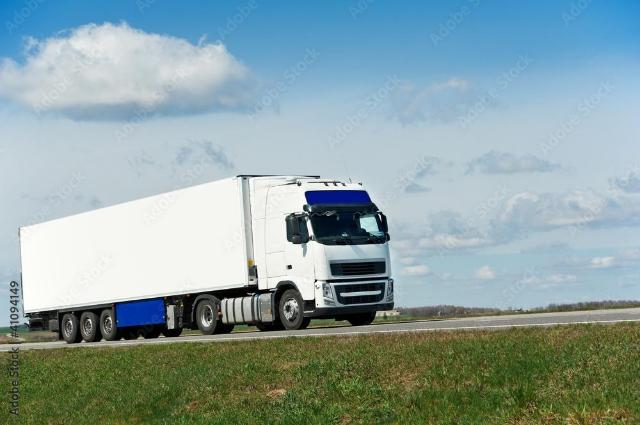truck: (19, 170, 399, 336)
